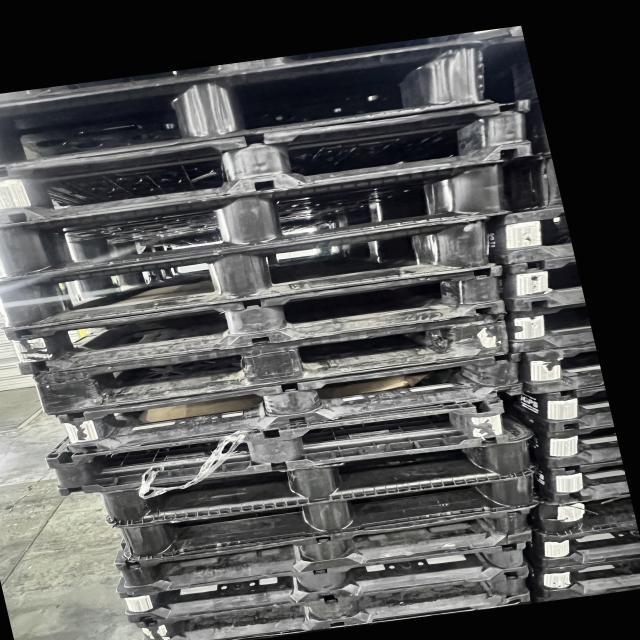igps: (0, 93, 540, 228), (0, 34, 499, 173), (0, 154, 516, 285), (0, 210, 500, 334), (0, 261, 513, 379), (30, 308, 514, 418), (52, 349, 527, 457), (42, 394, 514, 497), (109, 463, 546, 569), (99, 428, 544, 530), (111, 502, 537, 600), (0, 28, 497, 111), (113, 535, 535, 627), (131, 556, 539, 640), (493, 381, 627, 438), (518, 548, 640, 607), (478, 202, 582, 269), (508, 338, 616, 398), (526, 454, 640, 510), (500, 298, 606, 358), (493, 252, 589, 316), (523, 490, 640, 541), (530, 519, 640, 573), (522, 419, 630, 474), (494, 149, 568, 218)
